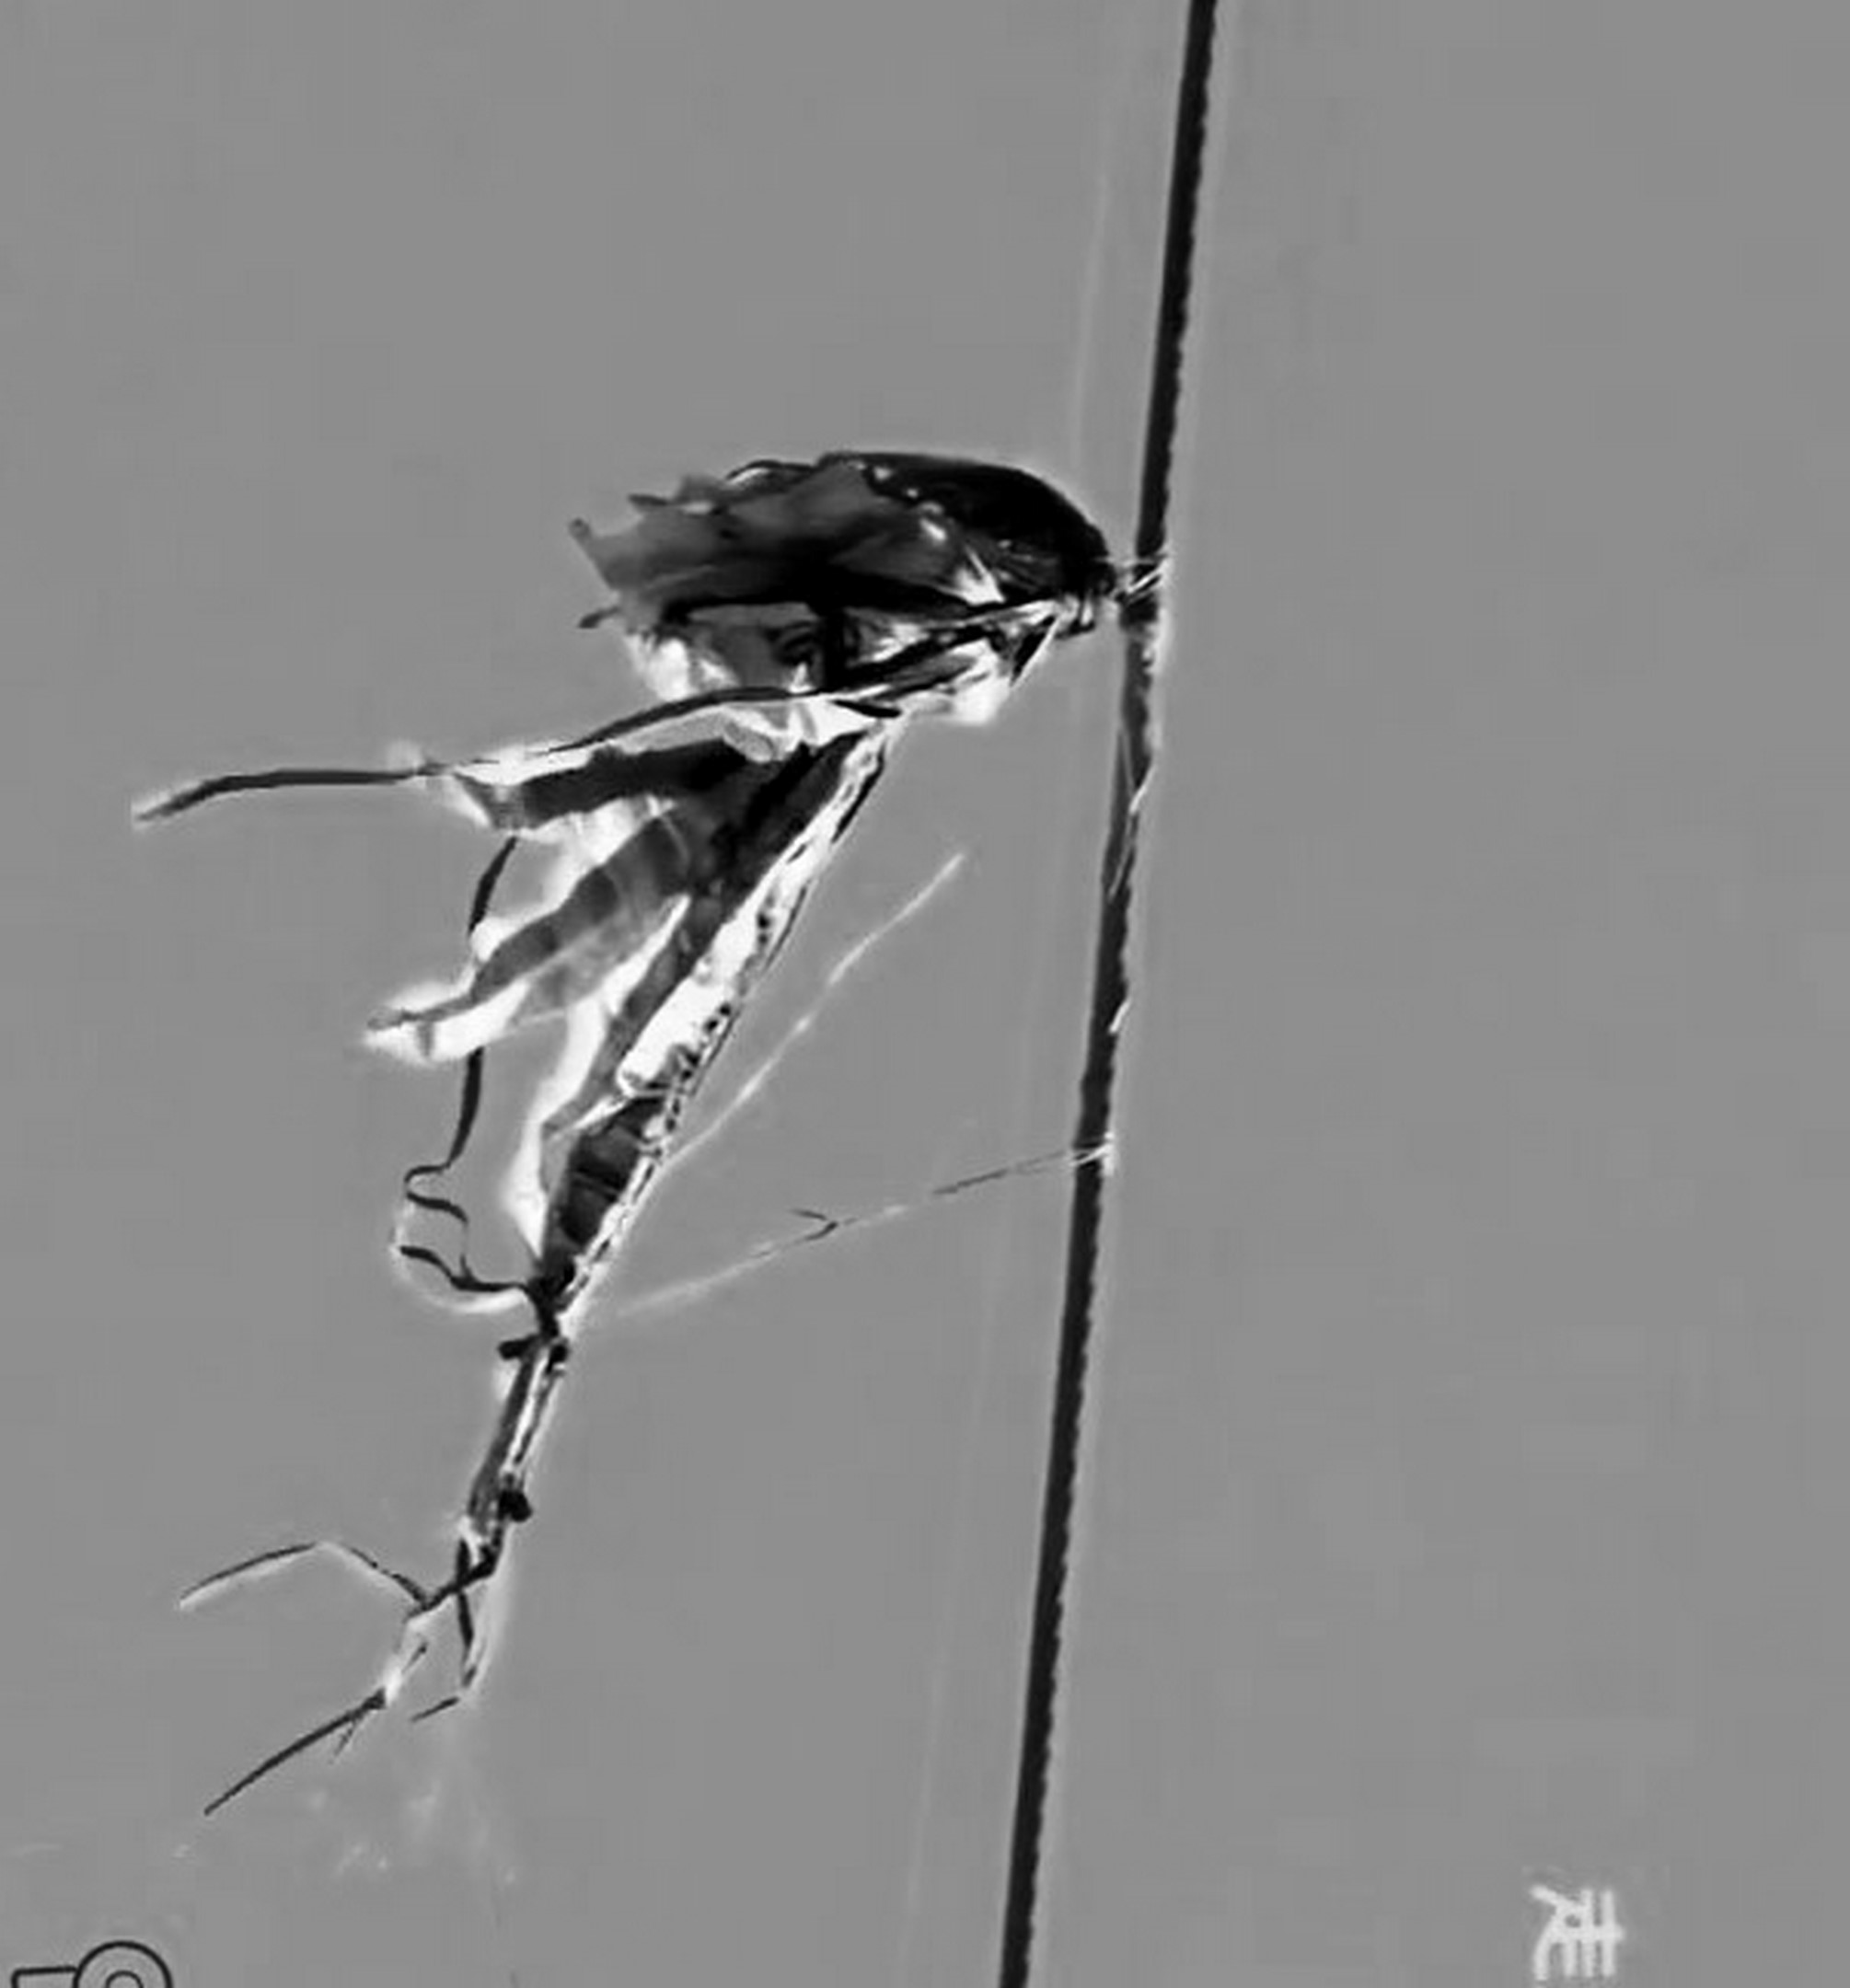wire foreign body: (341, 370, 1215, 1482)
